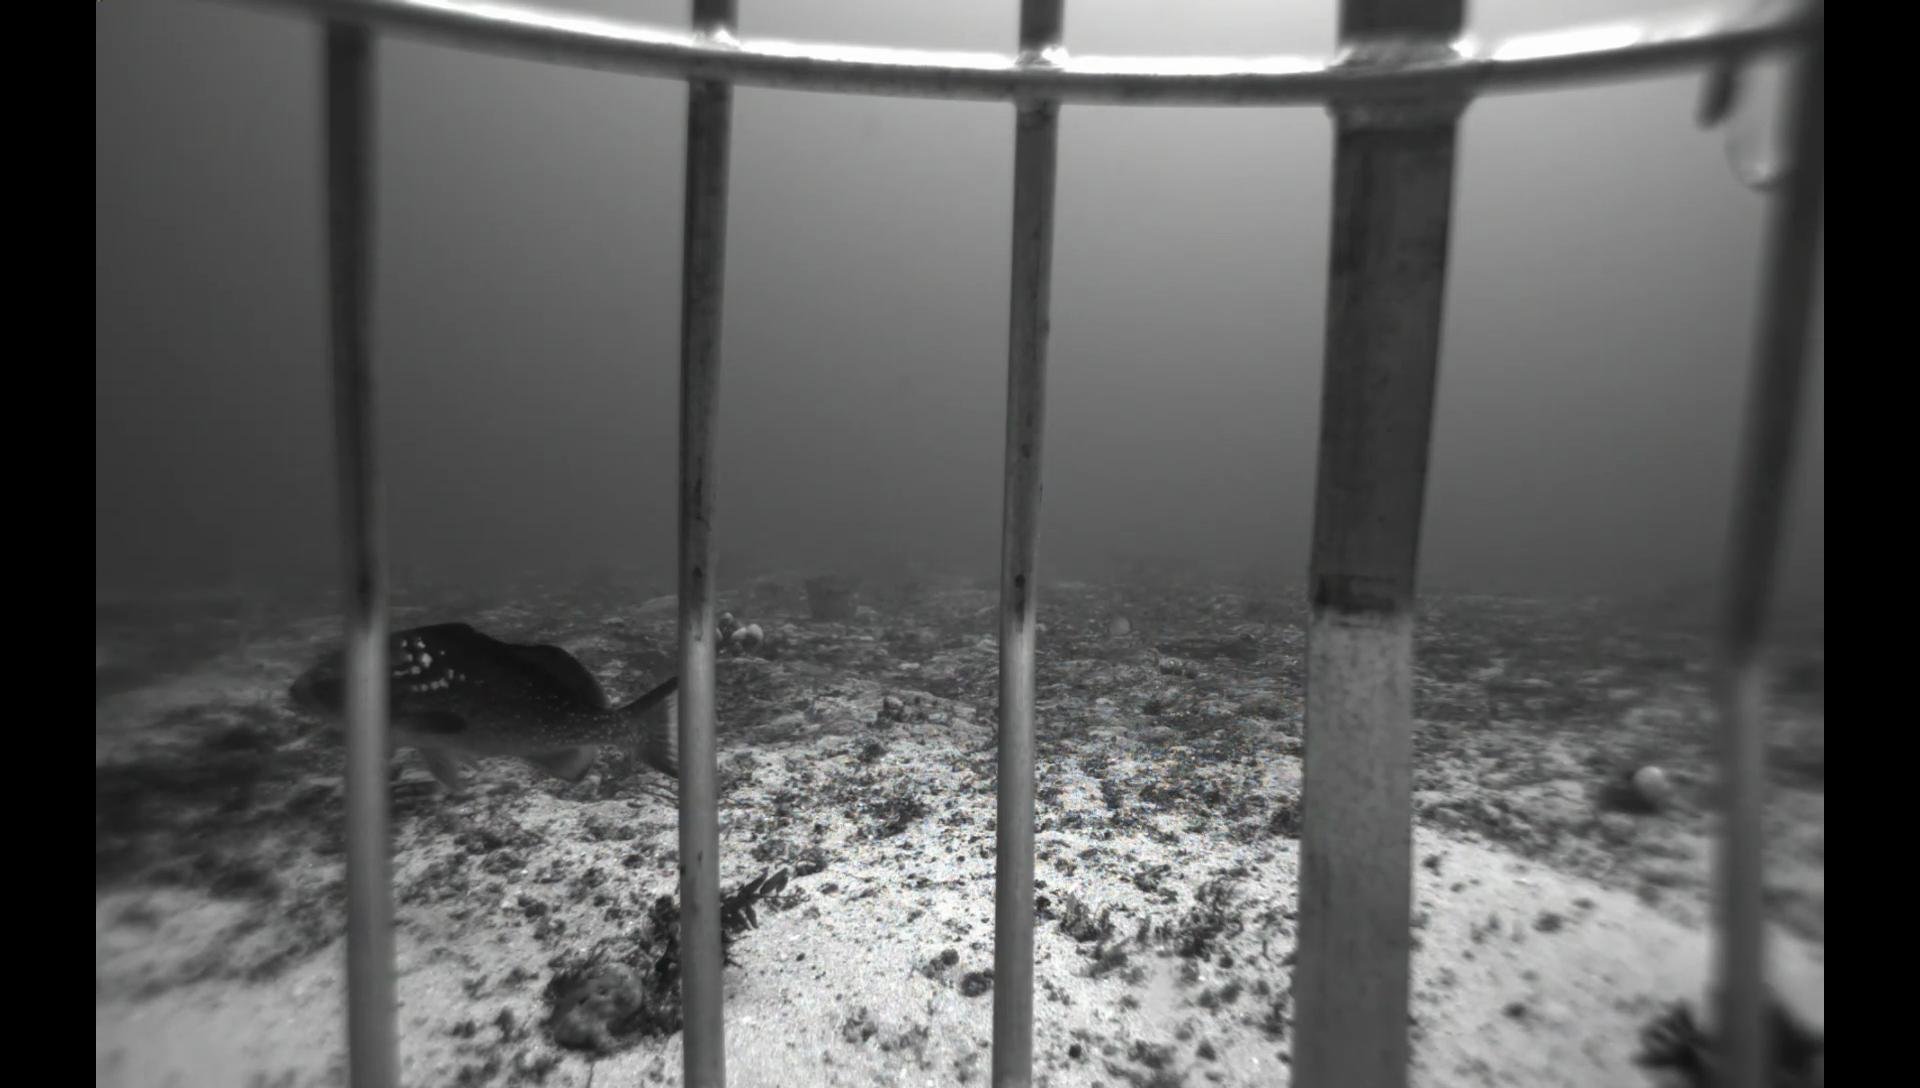CHAETODONOCELLATUS-170260307: (1098, 613, 1137, 640), (1102, 584, 1129, 611)
EPINEPHELUSMORIO-170021211: (269, 615, 679, 795)
HALICHOERESBIVITTATUS-170281202: (252, 677, 280, 707)
